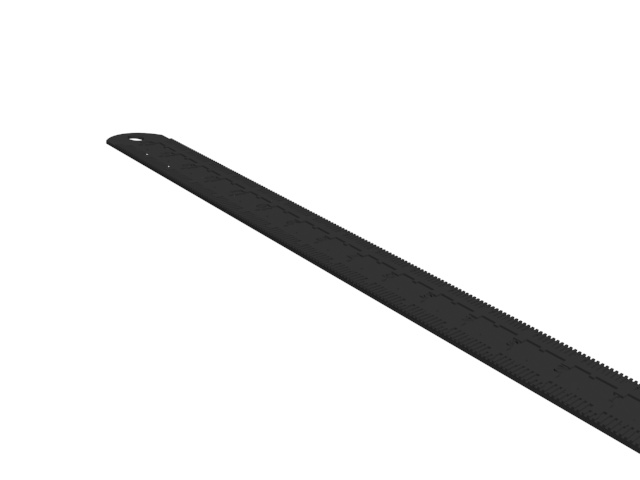ruler: (105, 129, 640, 456)
